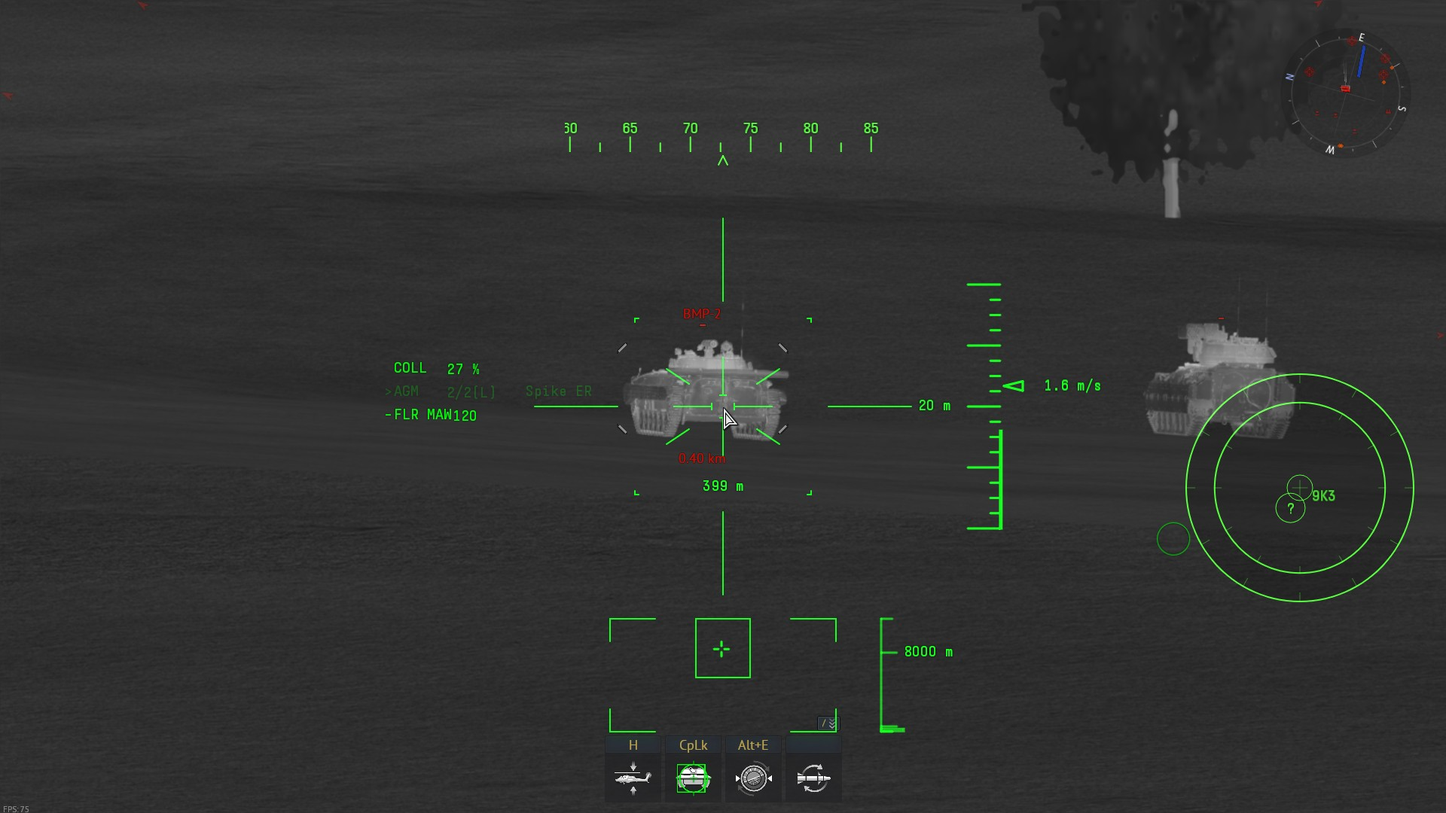bmp2: (620, 339, 791, 441)
bradley: (1145, 322, 1295, 440)
